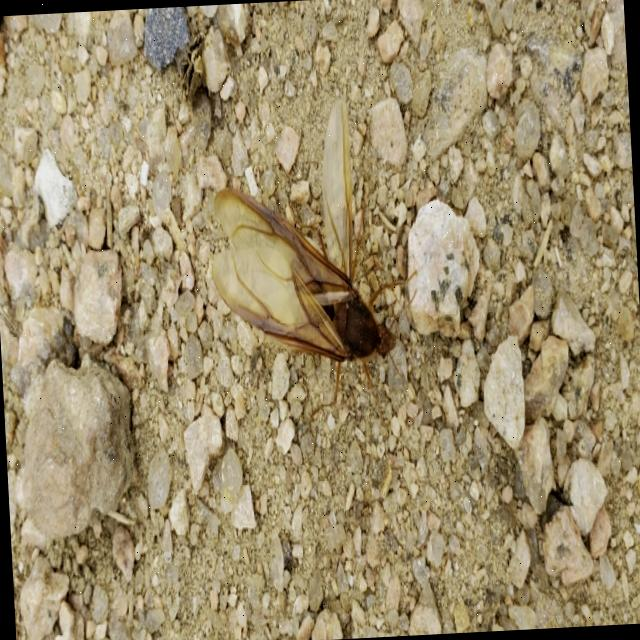Alive-Male-Alate: (203, 94, 427, 451)
